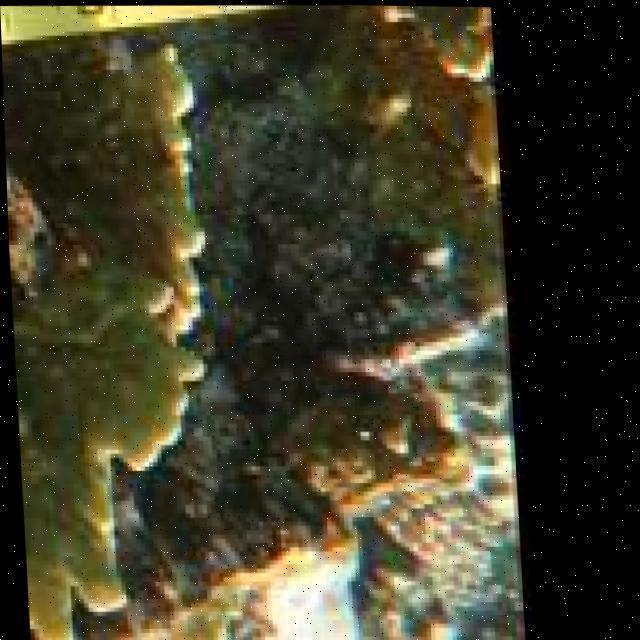Bleached Coral: (0, 17, 216, 640)
